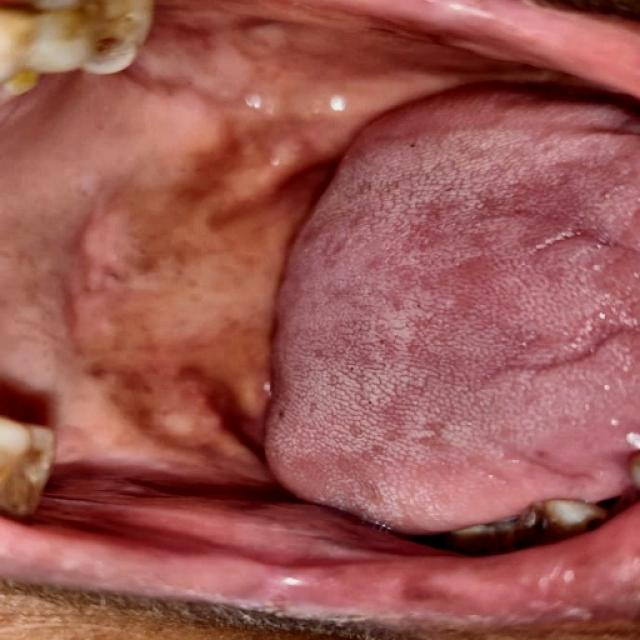processing_area: (0, 4, 638, 554)
